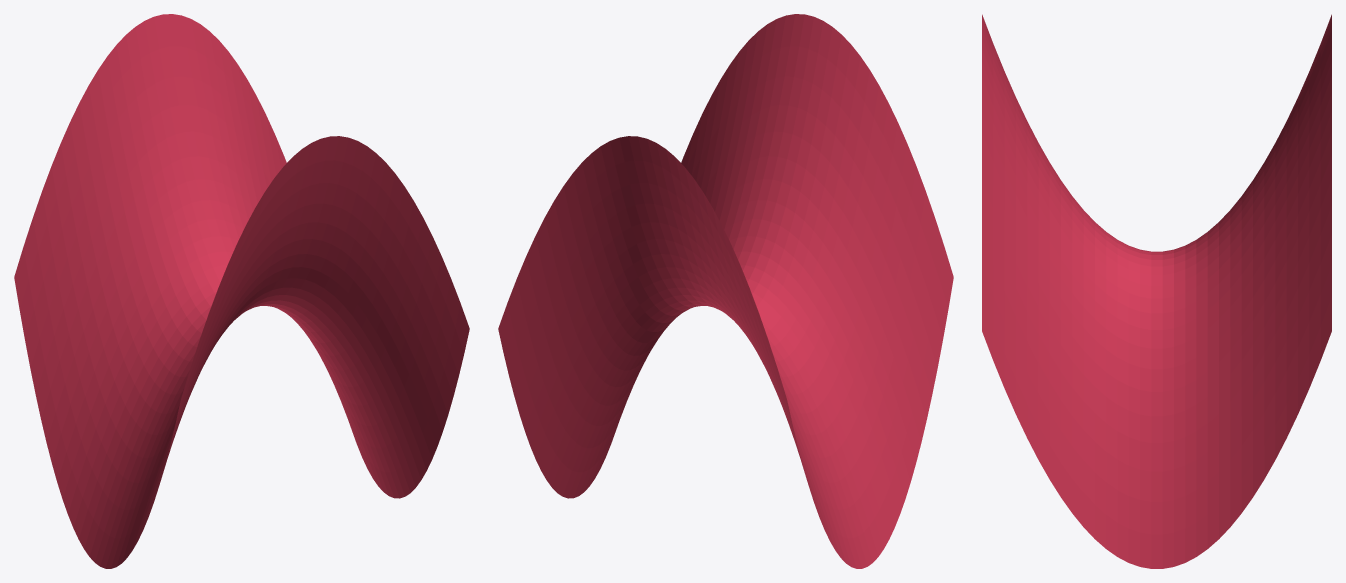
The model's file is ph_sinCamara_luz.fbx.
The picture shows the model from 3 angles, left to right: view 1: azimuth 30°, elevation 25°; view 2: azimuth 150°, elevation 25°; view 3: azimuth 270°, elevation 25°; orthographic projection. The views are drawn at different scales.
Parts seen in each view (by area): view 1: Z Function.000; view 2: Z Function.000; view 3: Z Function.000.
Boxes of the visible parts, <box> form: Z Function.000: <box>14,14,469,568</box>; Z Function.000: <box>498,14,953,568</box>; Z Function.000: <box>982,14,1331,568</box>.
Bounding box in the file's own units: 300 × 450 × 300.
